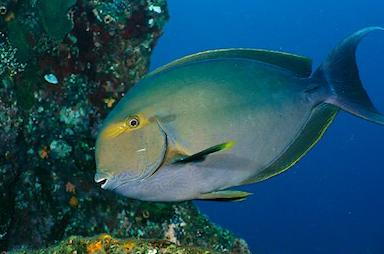Acanthuridae -Surgeonfishes-: (85, 16, 384, 209)
